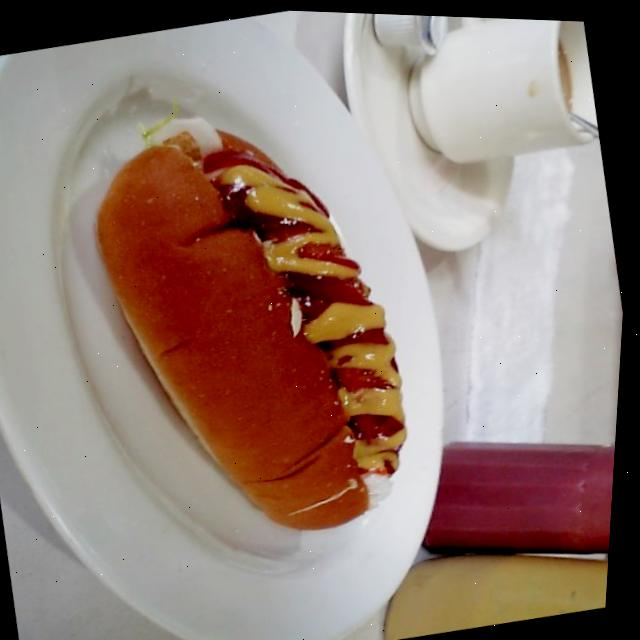汉堡快餐: (67, 75, 451, 570)
